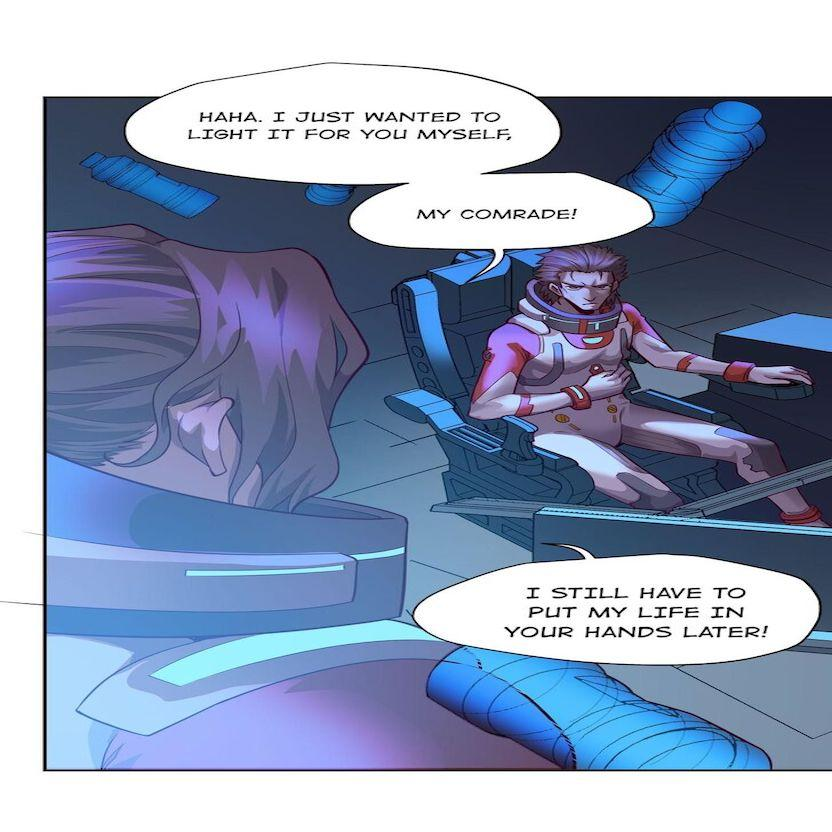Bubble: (123, 54, 564, 173), (411, 550, 823, 669), (347, 170, 658, 254)
